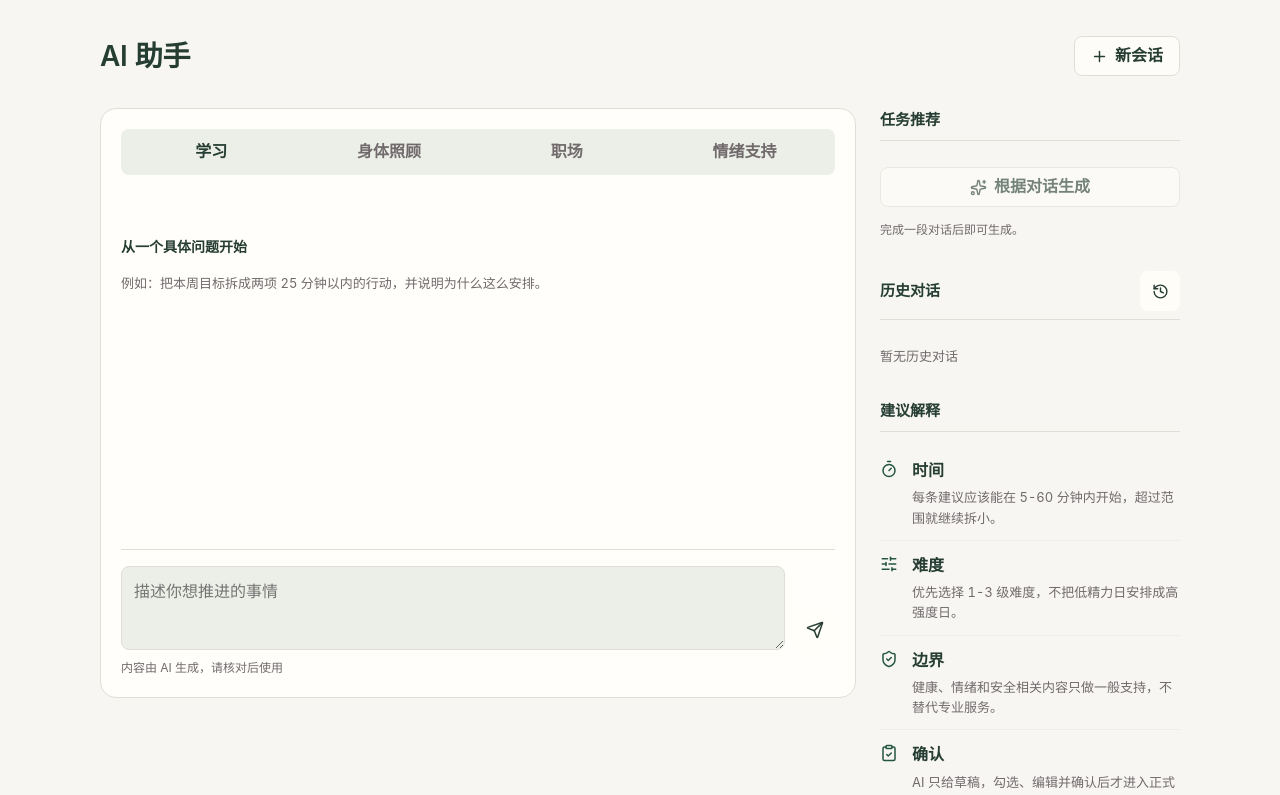
Test: AI safety UI › generates an editable JSON goal draft from the active conversation
Type "我想稳定复习" into the text box with id "ai-message".
click(453, 608); type("我想稳定复习")  # box x1=121 y1=566 x2=785 y2=650
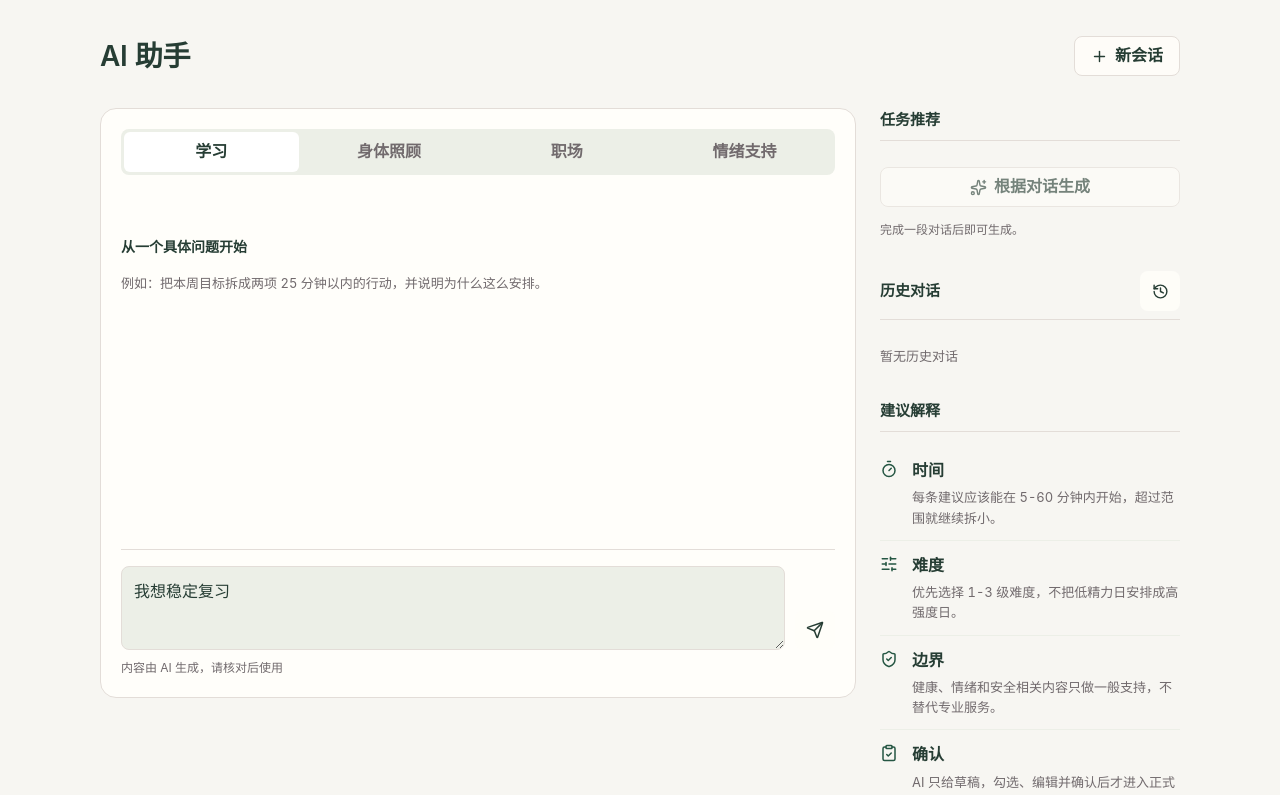
Submit the form with class "composer", box x1=121 y1=549 x2=835 y2=650
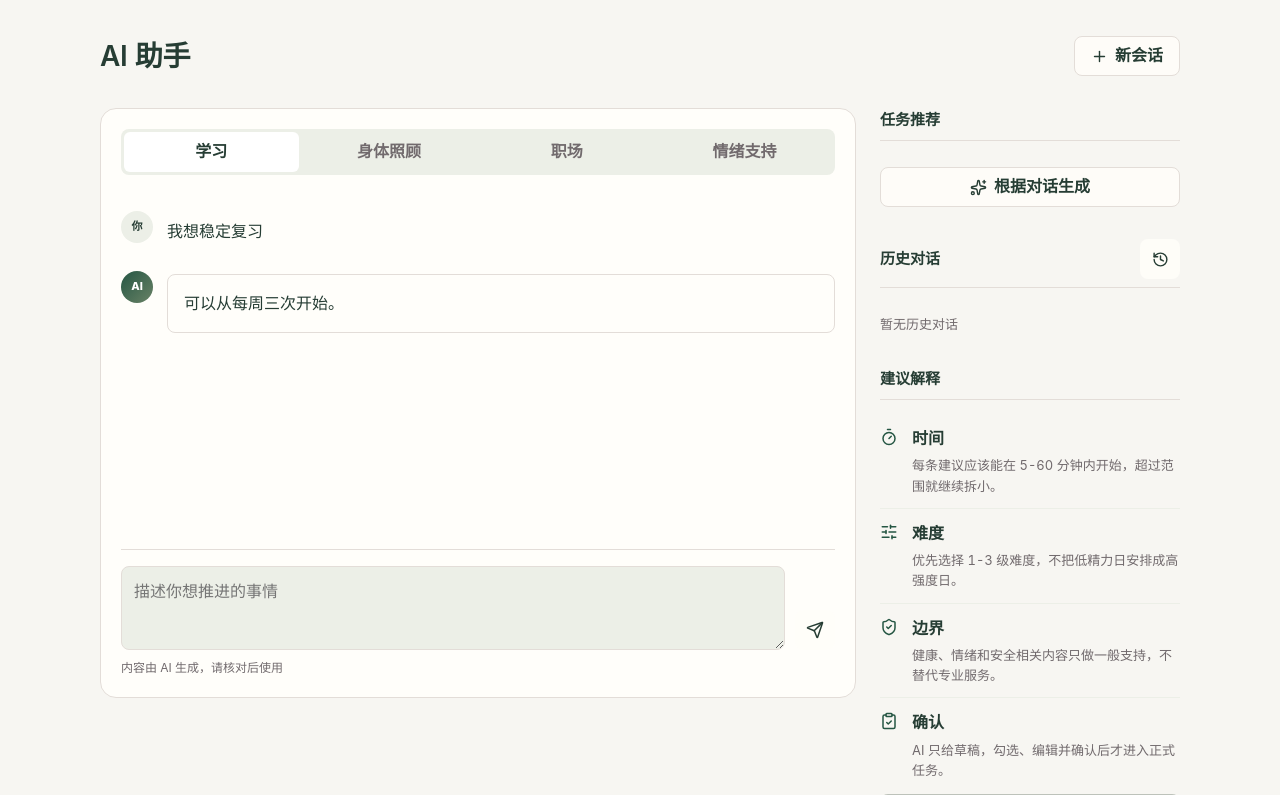
Click the button with class "generate-goal".
click(1030, 187)  # box x1=880 y1=167 x2=1180 y2=207
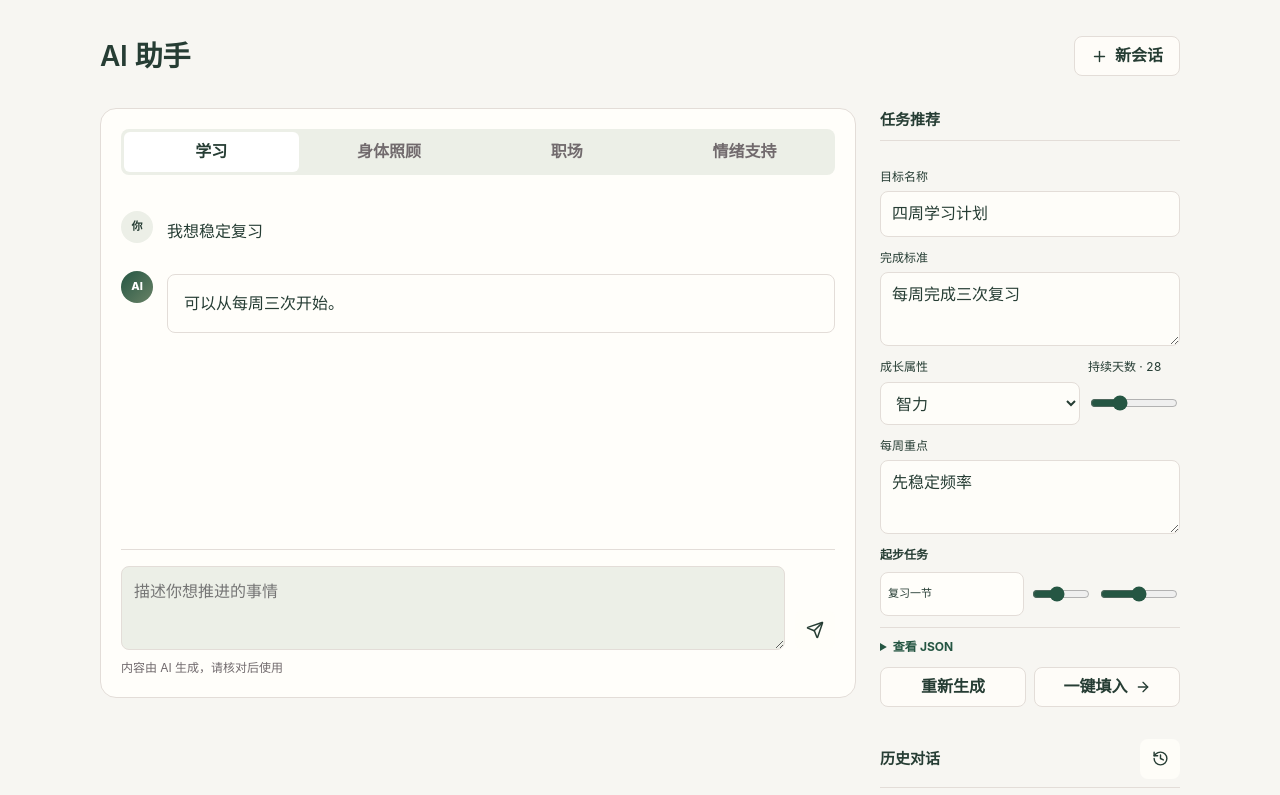
Expected: the field labelled "目标名称" holds "四周学习计划", x1=880 y1=191 x2=1180 y2=237
